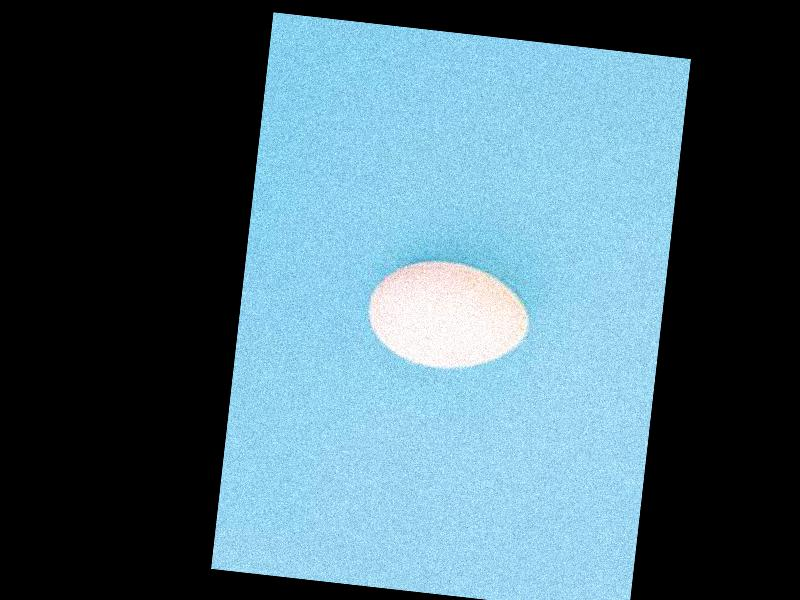Eggs: (363, 252, 537, 375)
